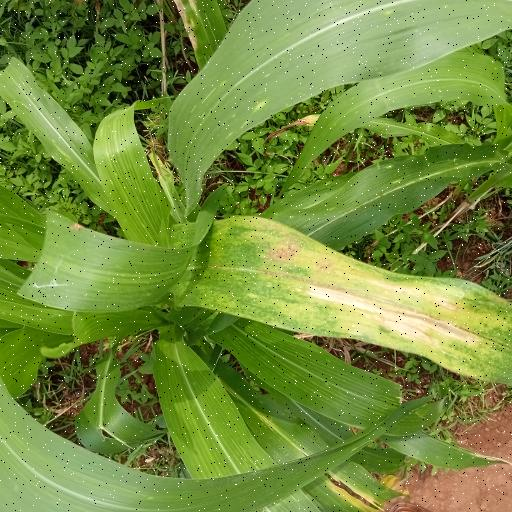Corn_Brown_Spots: (176, 0, 512, 189), (187, 202, 512, 390)
